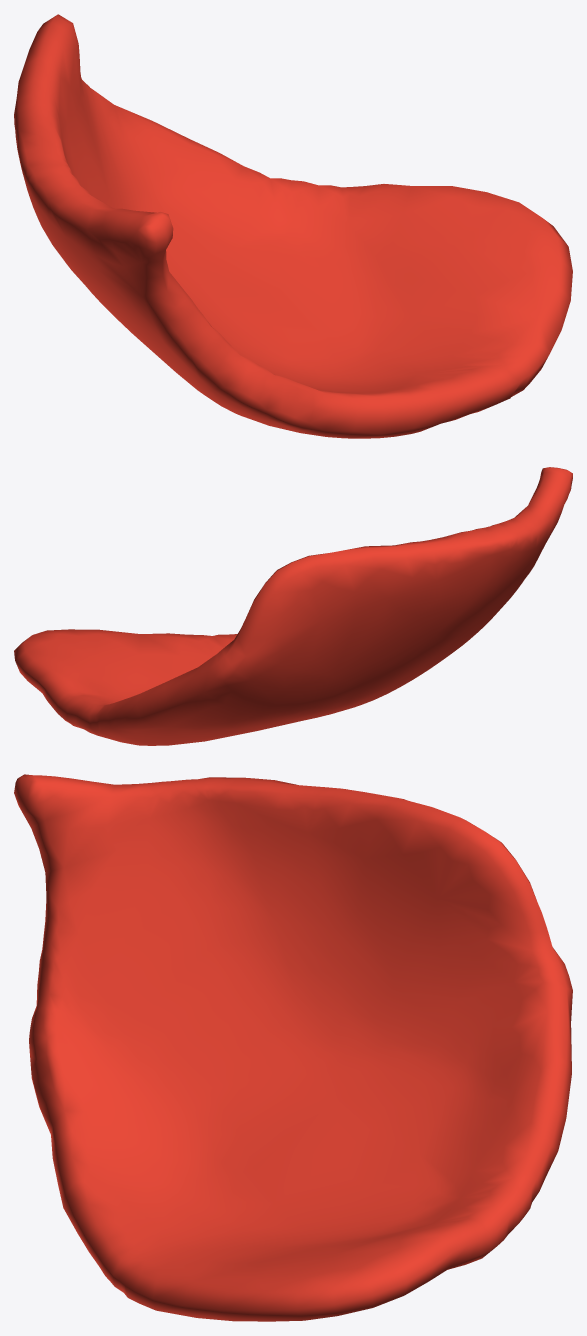
The model's file is Coracobrachialis_coracoid_process_right.glb.
3 views of the same model, one above another, from view 1: azimuth 30°, elevation 25°; view 2: azimuth 150°, elevation 25°; view 3: azimuth 270°, elevation 25° (orthographic). The views are drawn at different scales.
Visible parts, largest first — view 1: Coracobrachialis_muscle_on_coracoid_process_of_scapula.r_Gen; view 2: Coracobrachialis_muscle_on_coracoid_process_of_scapula.r_Gen; view 3: Coracobrachialis_muscle_on_coracoid_process_of_scapula.r_Gen.
Part boxes in pixels (bbox=[...]): Coracobrachialis_muscle_on_coracoid_process_of_scapula.r_Gen: bbox=[14, 14, 572, 438]; Coracobrachialis_muscle_on_coracoid_process_of_scapula.r_Gen: bbox=[14, 467, 572, 745]; Coracobrachialis_muscle_on_coracoid_process_of_scapula.r_Gen: bbox=[14, 774, 572, 1321].
Bounding box in the file's own units: 0.00746 × 0.00416 × 0.00607.
